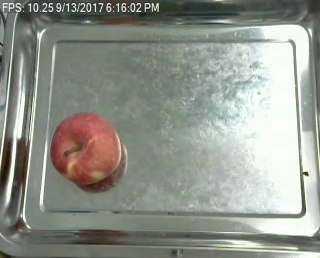Apple: (49, 111, 121, 185)
